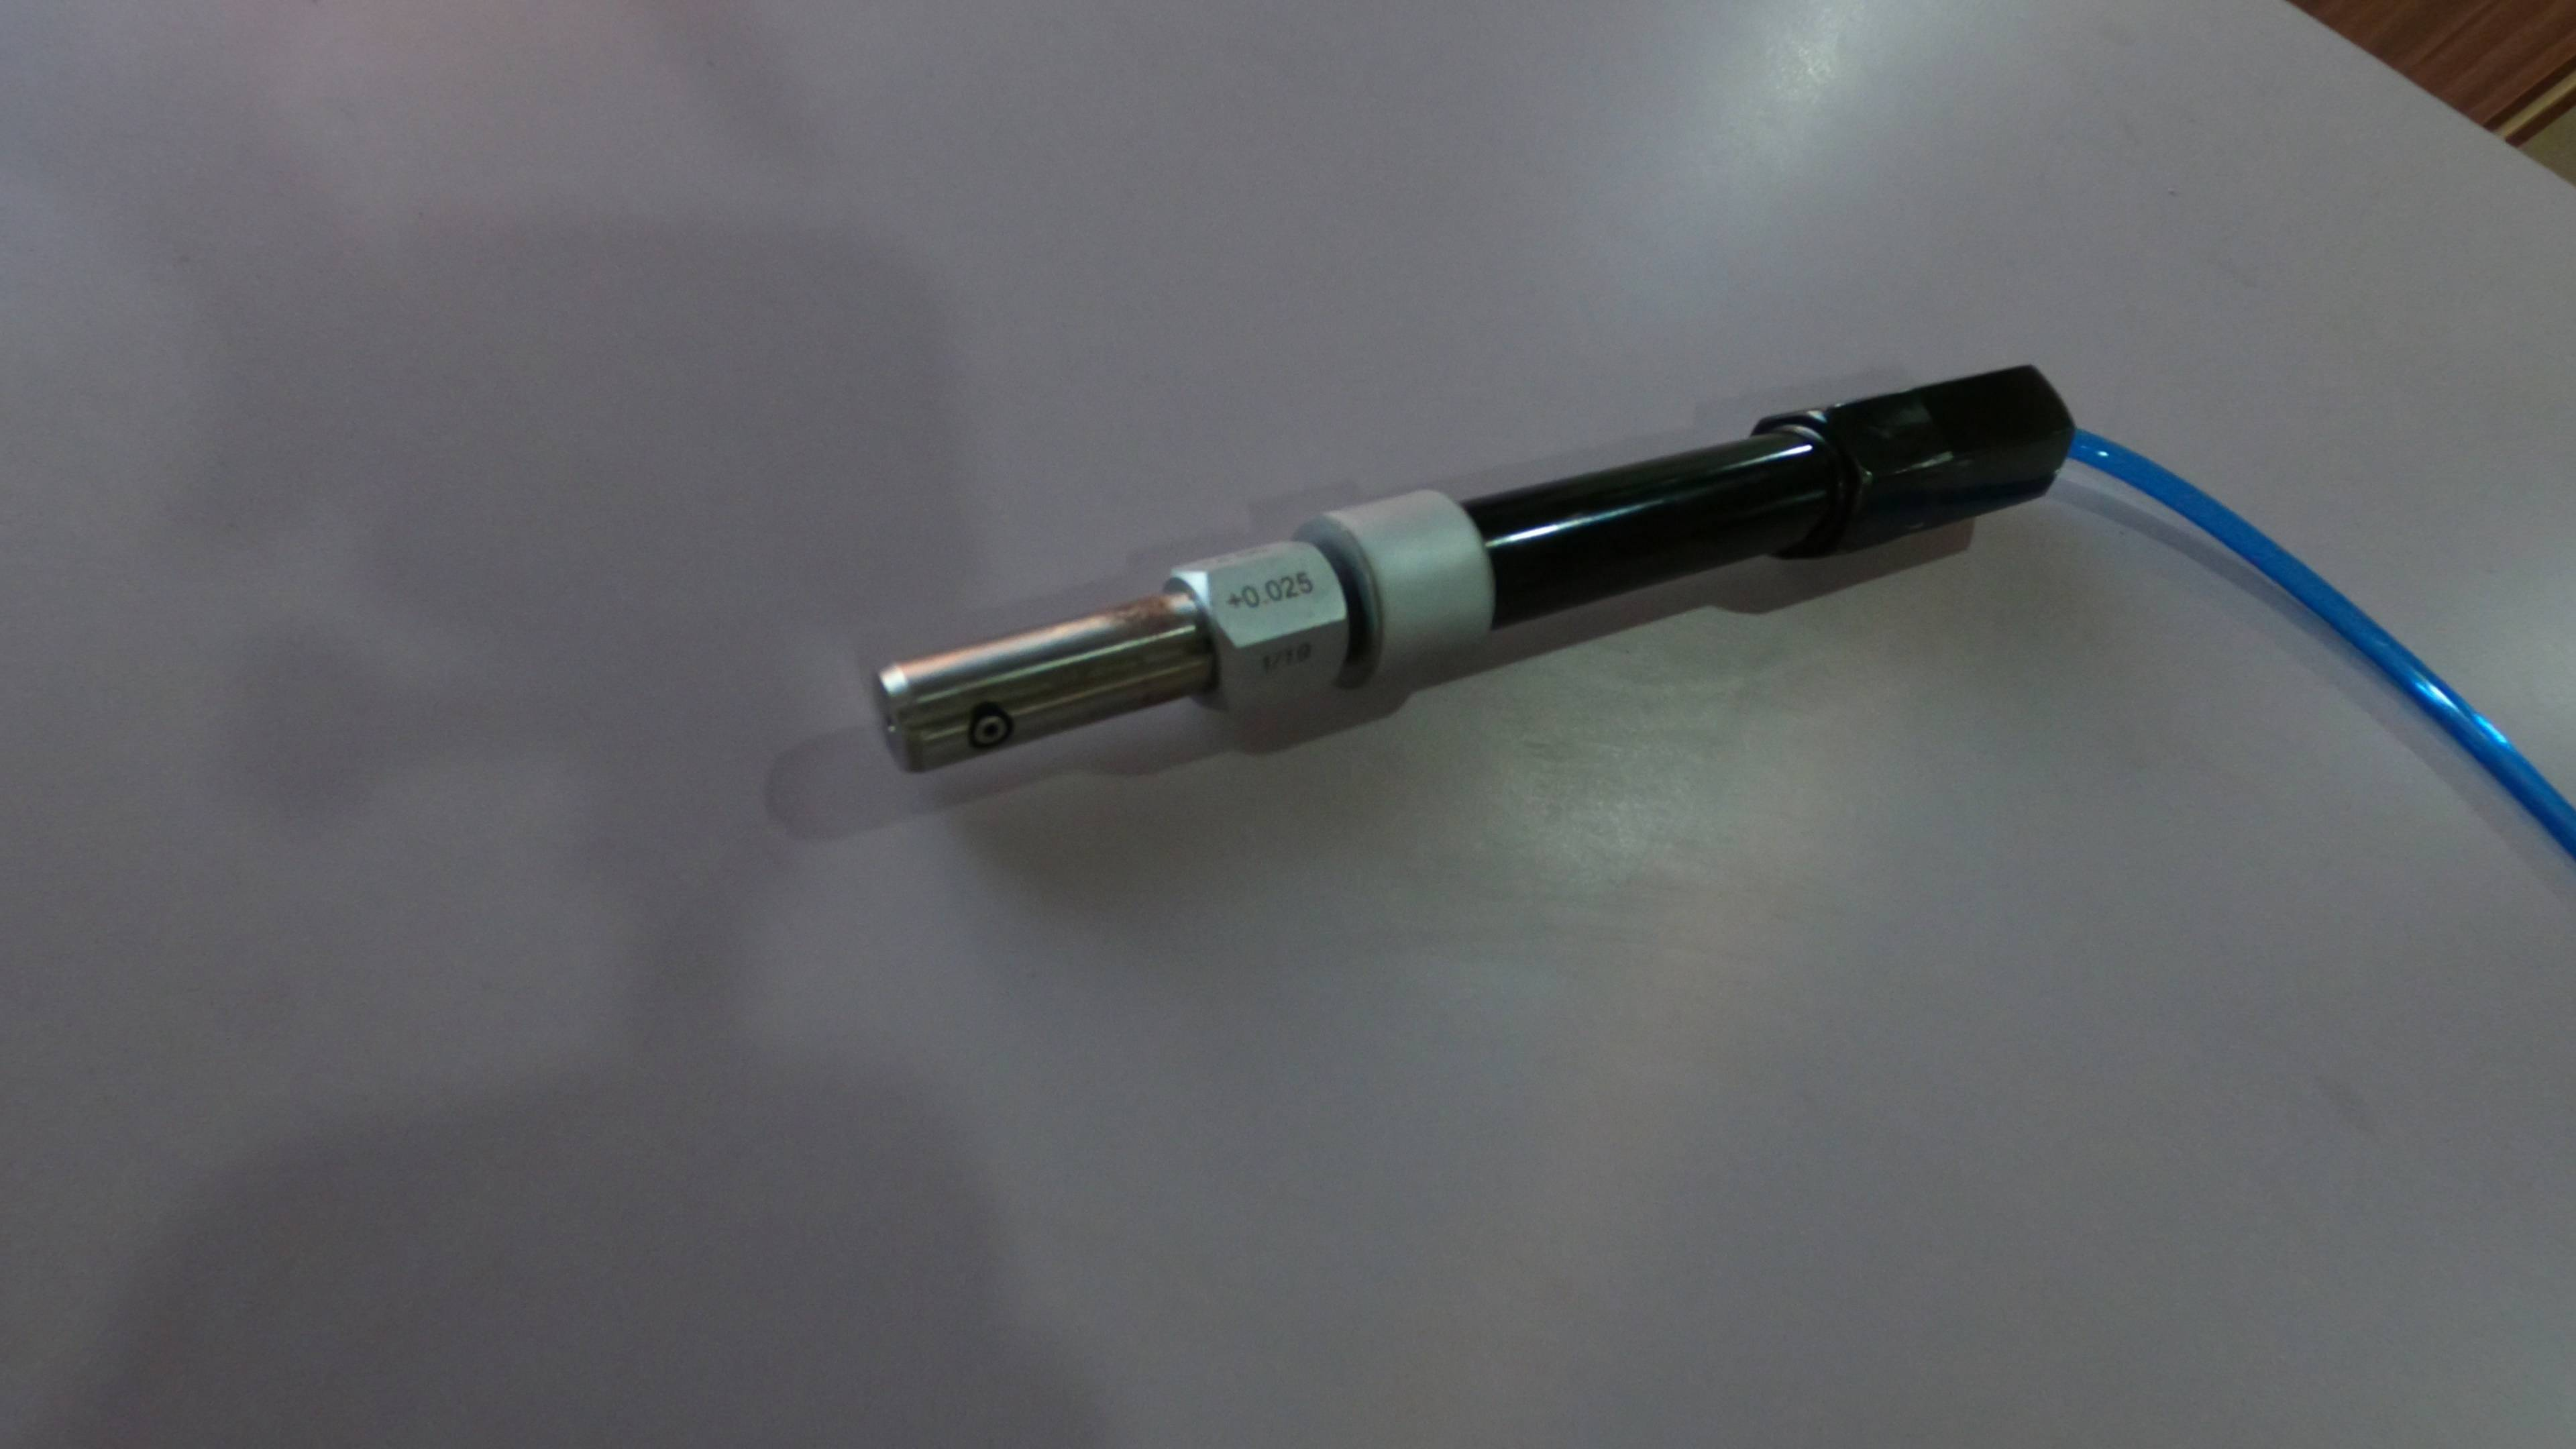air_gauge: (870, 356, 2086, 954)
